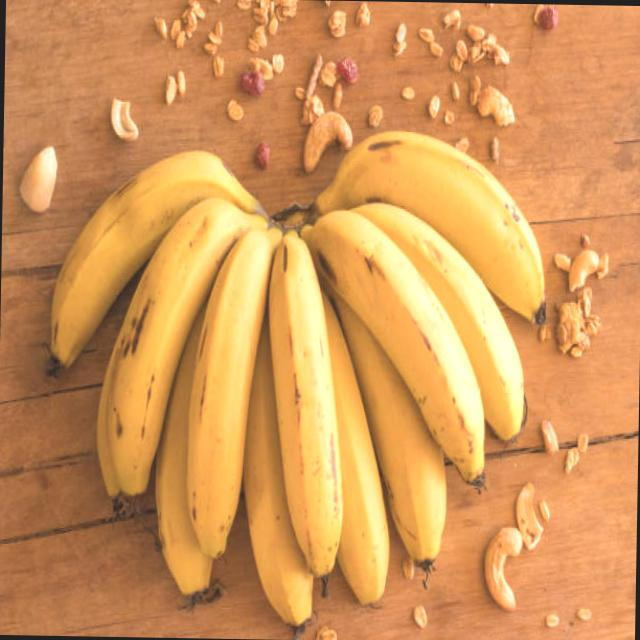Platano: (41, 115, 554, 640)
